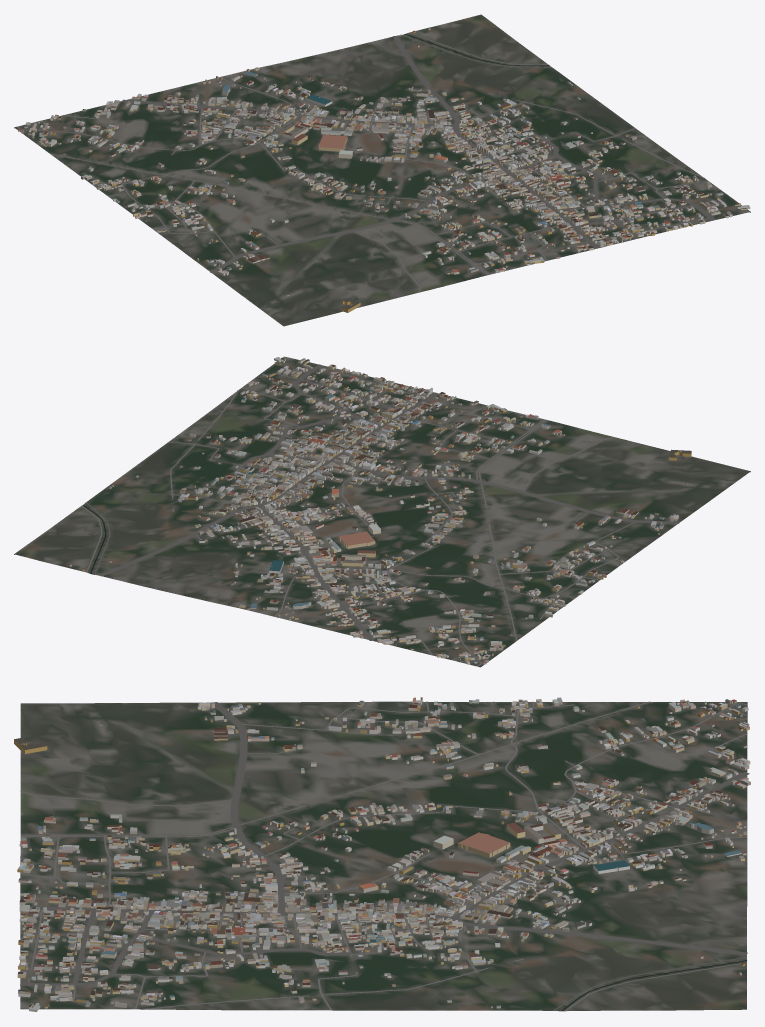
The picture shows the model from 3 angles, top to bottom: view 1: azimuth 30°, elevation 25°; view 2: azimuth 150°, elevation 25°; view 3: azimuth 270°, elevation 25°; orthographic projection. The views are drawn at different scales.
Visible parts, largest first — view 1: ground, buildings, roads; view 2: ground, buildings, roads; view 3: ground, buildings, roads.
Part boxes in pixels (x1,y1,x2,y2): ground: (14, 14, 750, 326); buildings: (18, 28, 750, 312); roads: (17, 32, 716, 292); ground: (14, 356, 750, 667); buildings: (69, 357, 691, 664); roads: (81, 364, 679, 666); ground: (20, 701, 747, 1011); buildings: (14, 697, 750, 1011); roads: (20, 701, 749, 1010).
Bounding box in the file's own units: 1417 × 21.8 × 1420.
